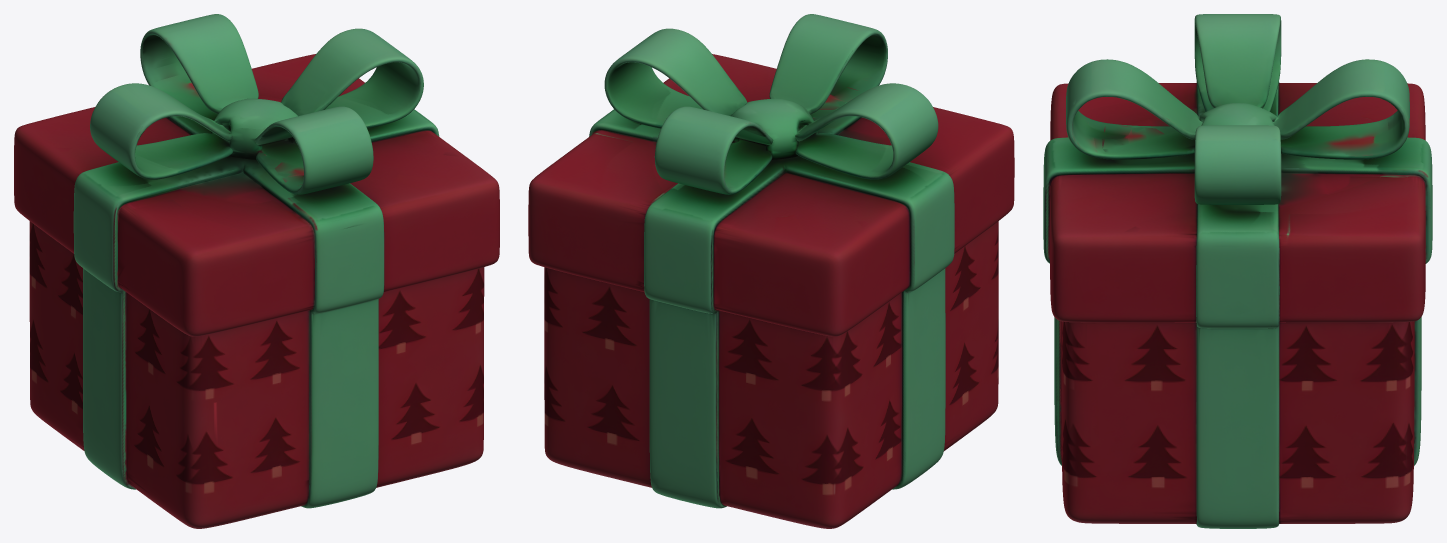
Rendered from gift.fbx.
3 renders of one model, left to right at view 1: azimuth 30°, elevation 25°; view 2: azimuth 150°, elevation 25°; view 3: azimuth 270°, elevation 25°, orthographic. The views are drawn at different scales.
Parts seen in each view (by area): view 1: node_0; view 2: node_0; view 3: node_0.
Boxes of the visible parts, x1,y1,x2,y2 form: node_0: (14, 14, 499, 528); node_0: (528, 14, 1014, 528); node_0: (1043, 14, 1432, 528).
Size of the model in its own units: 153 by 165 by 152.
1 material, 1 textured.
